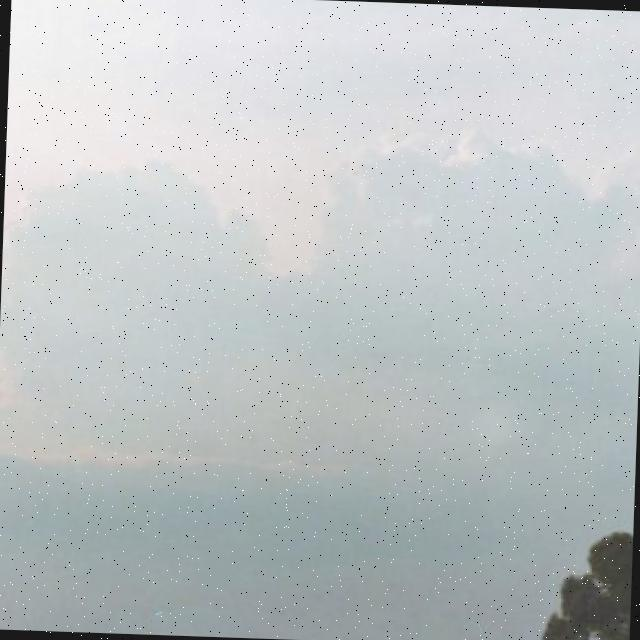Sc: (1, 11, 640, 502)
